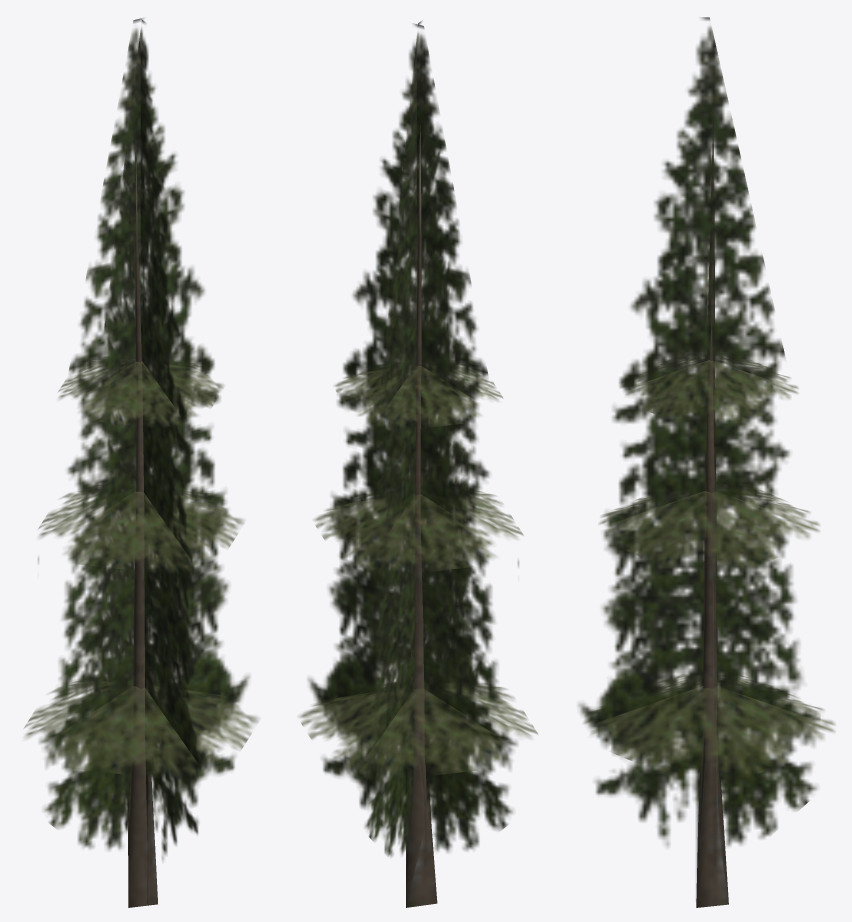
The model's file is forest_tree_0.glb.
3 views of the same model, side by side, from view 1: azimuth 30°, elevation 25°; view 2: azimuth 150°, elevation 25°; view 3: azimuth 270°, elevation 25° (orthographic).
Visible parts, largest first — view 1: Background_Tree_Atlas_Background_Tree_Atlas_0; view 2: Background_Tree_Atlas_Background_Tree_Atlas_0; view 3: Background_Tree_Atlas_Background_Tree_Atlas_0.
Part boxes in pixels (box(x1,y1,x2,y2)): Background_Tree_Atlas_Background_Tree_Atlas_0: box(24, 18, 258, 907); Background_Tree_Atlas_Background_Tree_Atlas_0: box(299, 20, 537, 907); Background_Tree_Atlas_Background_Tree_Atlas_0: box(578, 17, 834, 907).
Size of the model in its own units: 3.48 by 13.01 by 3.52.
1 material, 1 textured.
